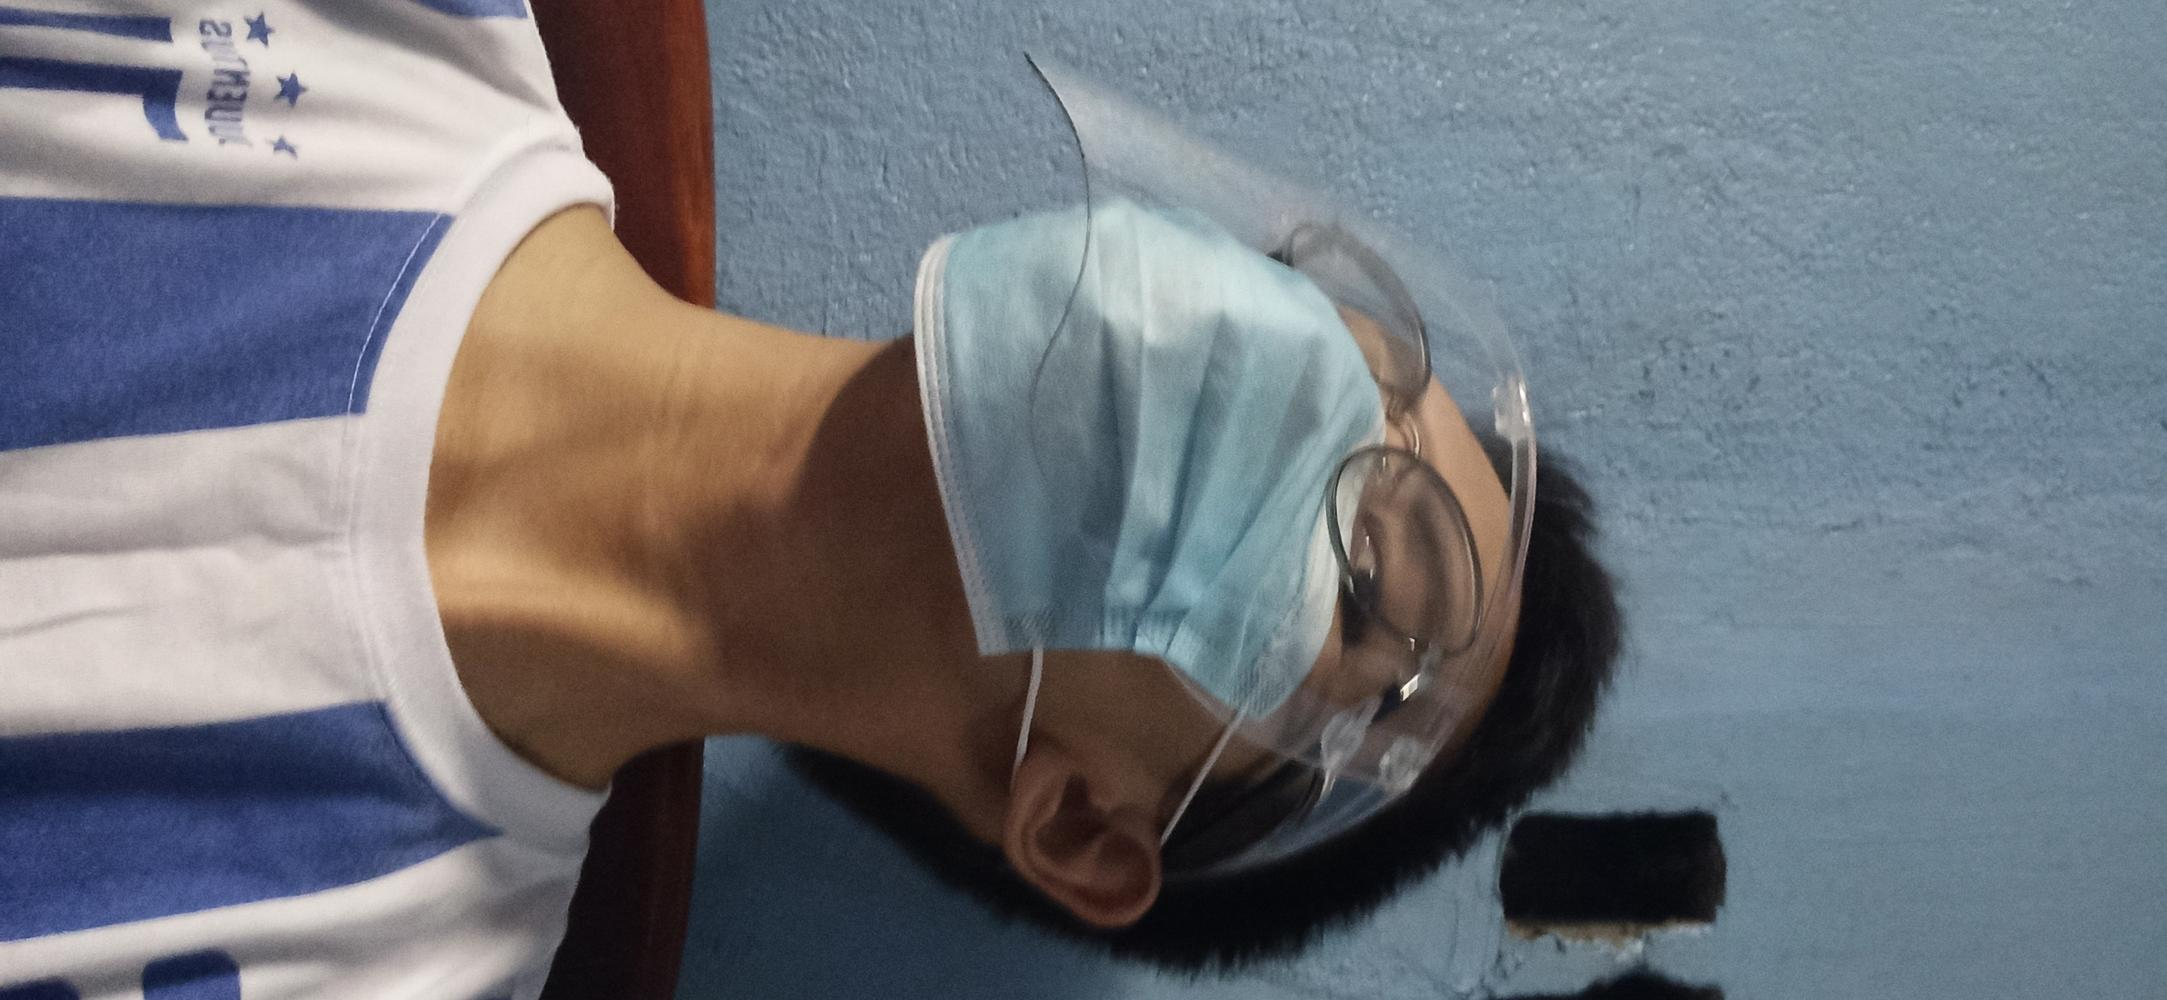Face Mask: (916, 201, 1341, 711)
Face Shield: (1025, 46, 1541, 720)
Undefined Object: (6, 11, 593, 1000), (1287, 217, 1493, 653)
